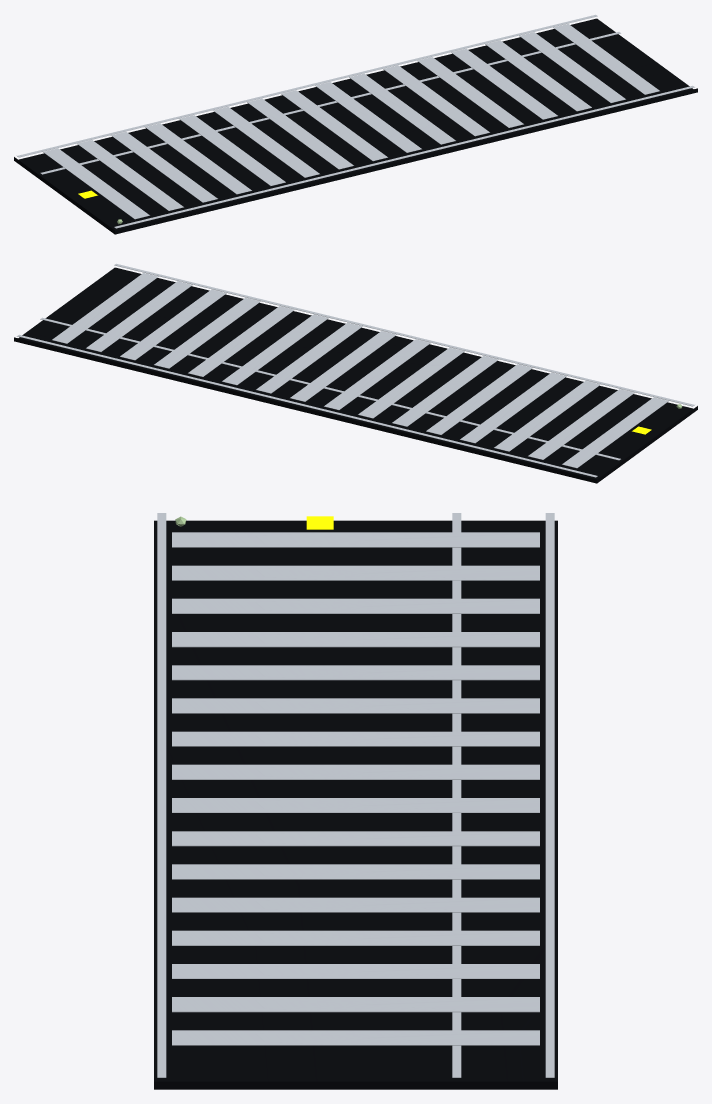
File: tt_trk_crossing.glb
3 views of the same model, one above another, from view 1: azimuth 30°, elevation 25°; view 2: azimuth 150°, elevation 25°; view 3: azimuth 270°, elevation 25° (orthographic). The views are drawn at different scales.
Parts seen in each view (by area): view 1: Track_Bed, Zebra, Lane_Paint; view 2: Track_Bed, Zebra, Lane_Paint; view 3: Track_Bed, Zebra, Lane_Paint.
Boxes of the visible parts, bbox=[...] form: Track_Bed: bbox=[14, 18, 697, 234]; Zebra: bbox=[43, 24, 659, 219]; Lane_Paint: bbox=[17, 14, 694, 228]; Track_Bed: bbox=[14, 267, 697, 483]; Zebra: bbox=[52, 273, 668, 468]; Lane_Paint: bbox=[17, 263, 694, 477]; Track_Bed: bbox=[154, 520, 557, 1089]; Zebra: bbox=[172, 532, 539, 1045]; Lane_Paint: bbox=[157, 513, 554, 1077].
Size of what is drawn, in the model's own units: 6 by 0.0713 by 1.8.
4 materials, 2 textured.
